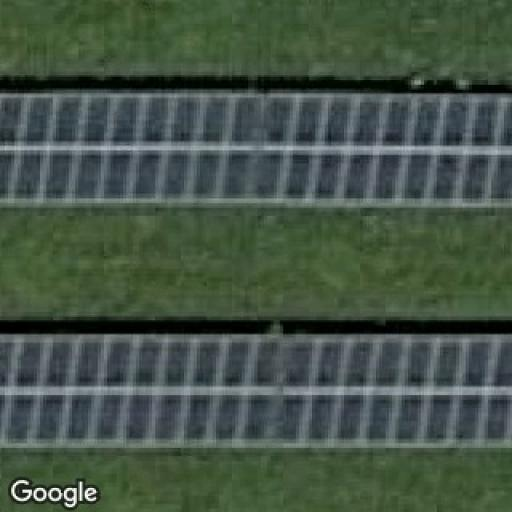solar-panel: (0, 90, 512, 211), (0, 330, 512, 450)
